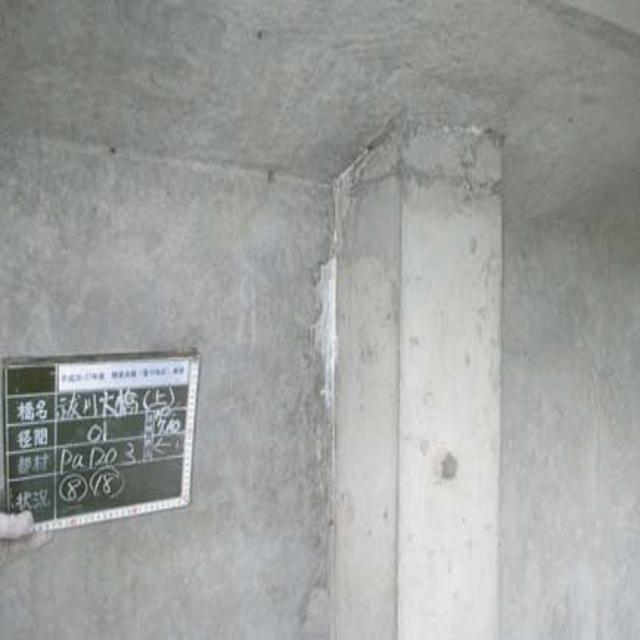freelime: (304, 252, 347, 412)
